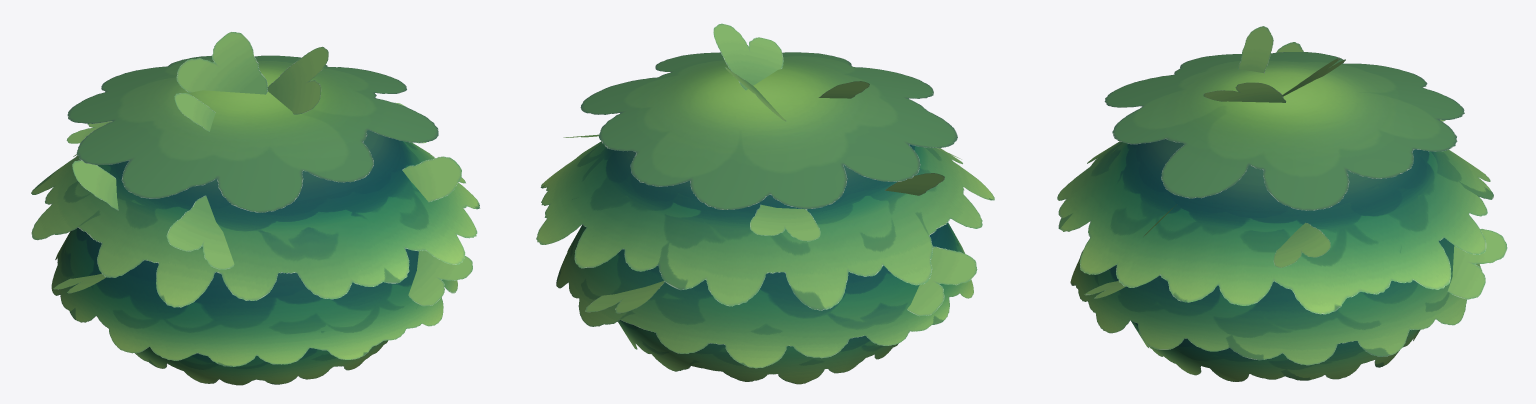
File: bush tes.fbx
3 renders of one model, left to right at view 1: azimuth 30°, elevation 25°; view 2: azimuth 150°, elevation 25°; view 3: azimuth 270°, elevation 25°, orthographic.
Visible parts, largest first — view 1: Circle.001; view 2: Circle.001; view 3: Circle.001.
Boxes of the visible parts, x1,y1,x2,y2 form: Circle.001: (31, 32, 480, 385); Circle.001: (536, 23, 994, 384); Circle.001: (1057, 26, 1507, 381).
Size of the model in its own units: 363 by 241 by 364.
